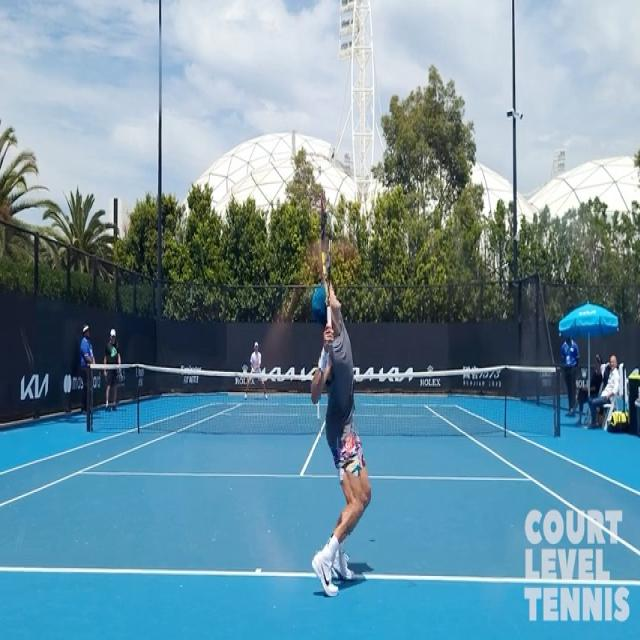serve_hit: (283, 199, 377, 601)
